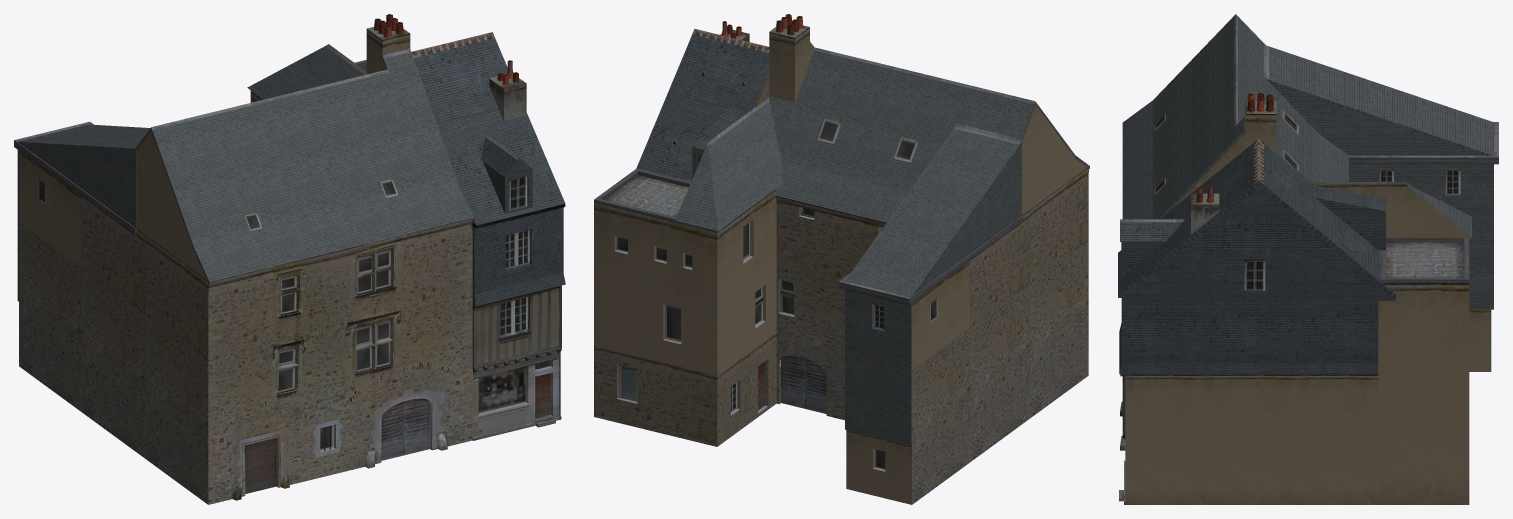
Rendered from lemans.glb.
3 renders of one model, left to right at view 1: azimuth 30°, elevation 25°; view 2: azimuth 150°, elevation 25°; view 3: azimuth 270°, elevation 25°, orthographic. The views are drawn at different scales.
Visible parts, largest first — view 1: building_Material_0; view 2: building_Material_0; view 3: building_Material_0.
Boxes of the visible parts, x1,y1,x2,y2 form: building_Material_0: (14,14,565,504); building_Material_0: (594,14,1089,504); building_Material_0: (1118,14,1498,504).
Size of the model in its own units: 16.15 by 16.15 by 15.49.
Materials: 1 (1 with a texture image).
